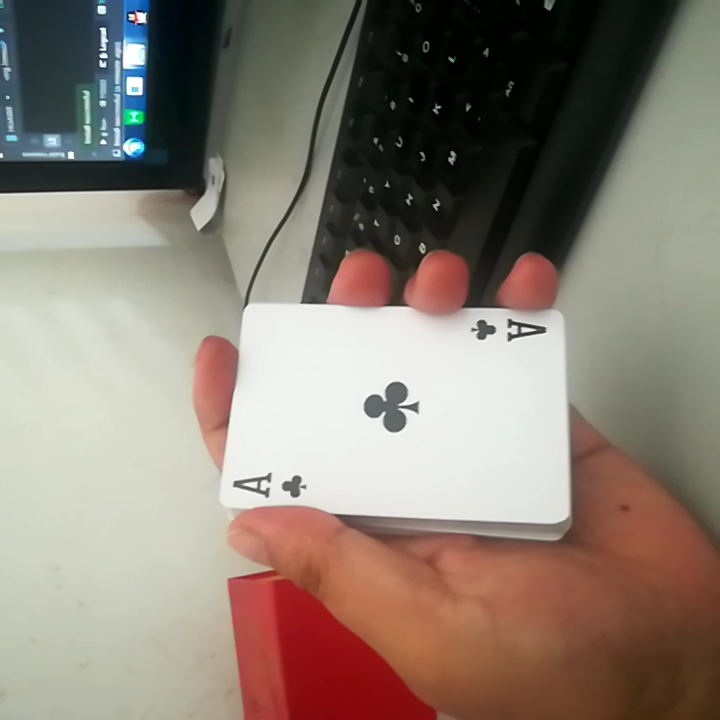mh a: (209, 294, 586, 531)
